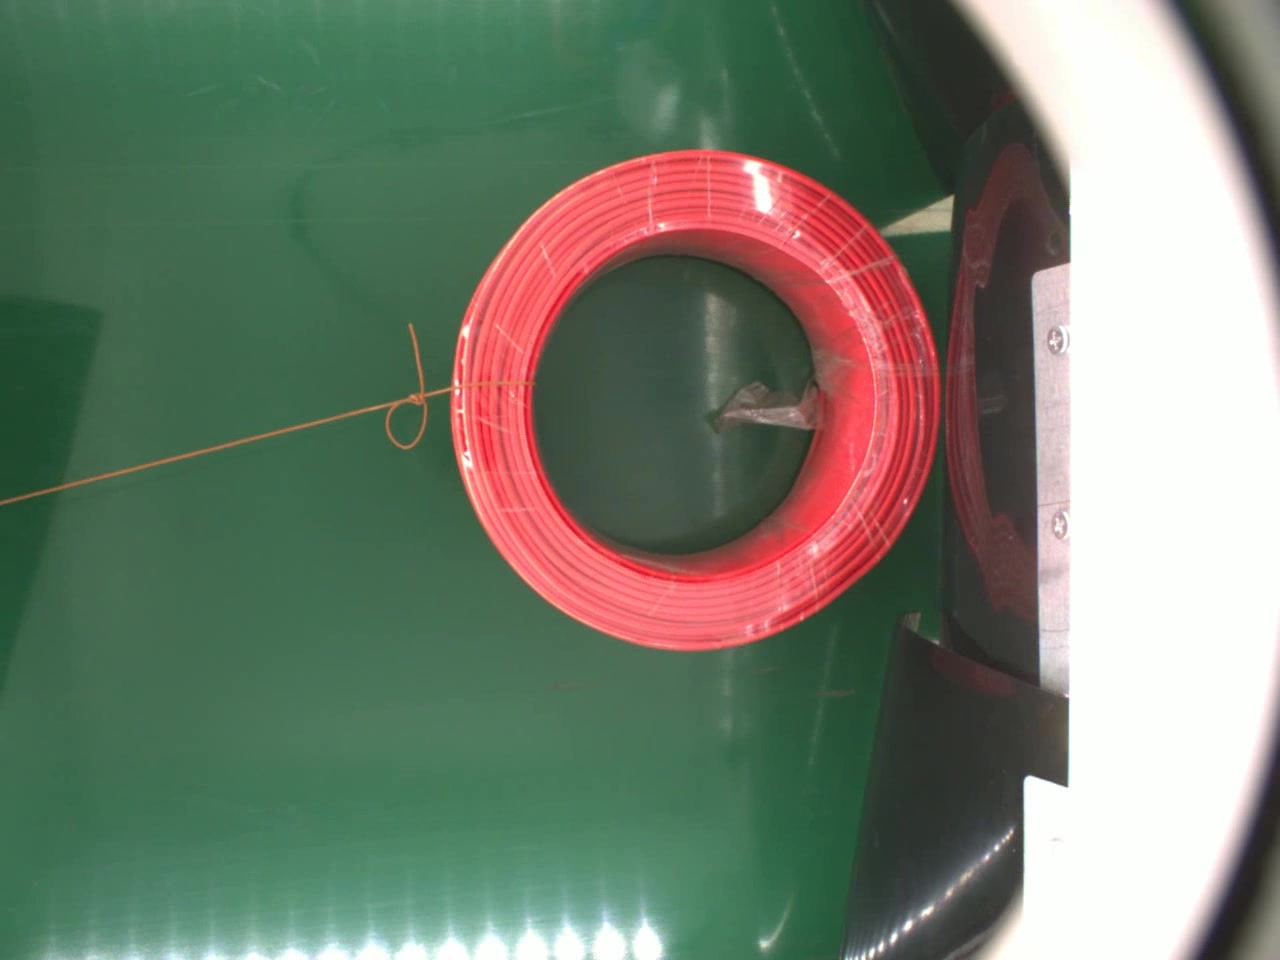red: (428, 134, 953, 659)
